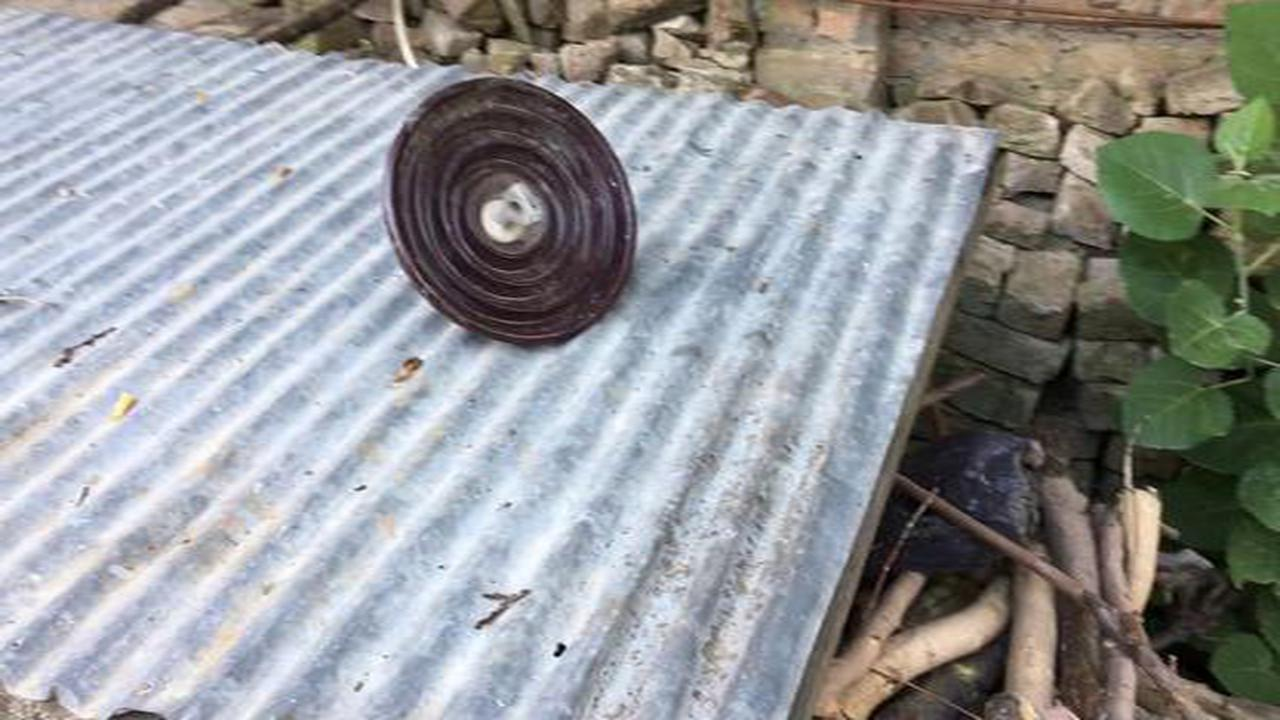insulator_disc: (379, 77, 639, 349)
